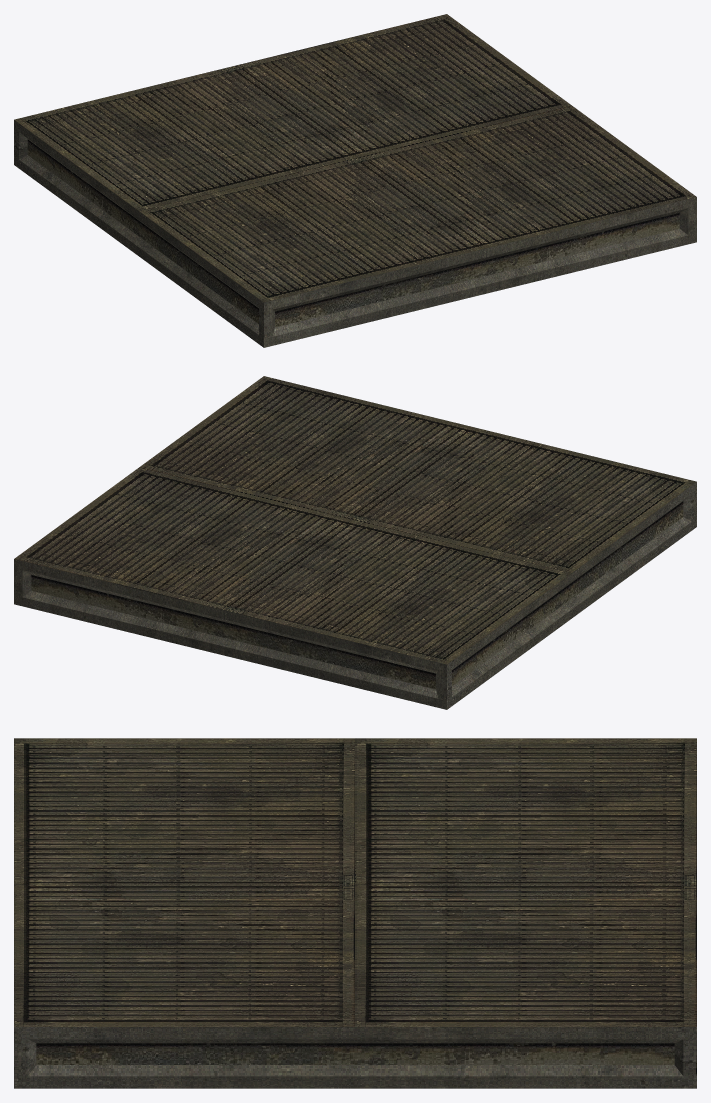
File: floor_ceiling_hy_1.glb
3 views of the same model, one above another, from view 1: azimuth 30°, elevation 25°; view 2: azimuth 150°, elevation 25°; view 3: azimuth 270°, elevation 25° (orthographic). The views are drawn at different scales.
Visible parts, largest first — view 1: floor_ceiling_hy_1; view 2: floor_ceiling_hy_1; view 3: floor_ceiling_hy_1.
Part boxes in pixels (x1,y1,x2,y2): floor_ceiling_hy_1: (14,14,696,347); floor_ceiling_hy_1: (14,376,696,709); floor_ceiling_hy_1: (14,738,696,1088).
Size of the model in its own units: 4 by 0.4 by 4.
3 materials, 3 textured.
